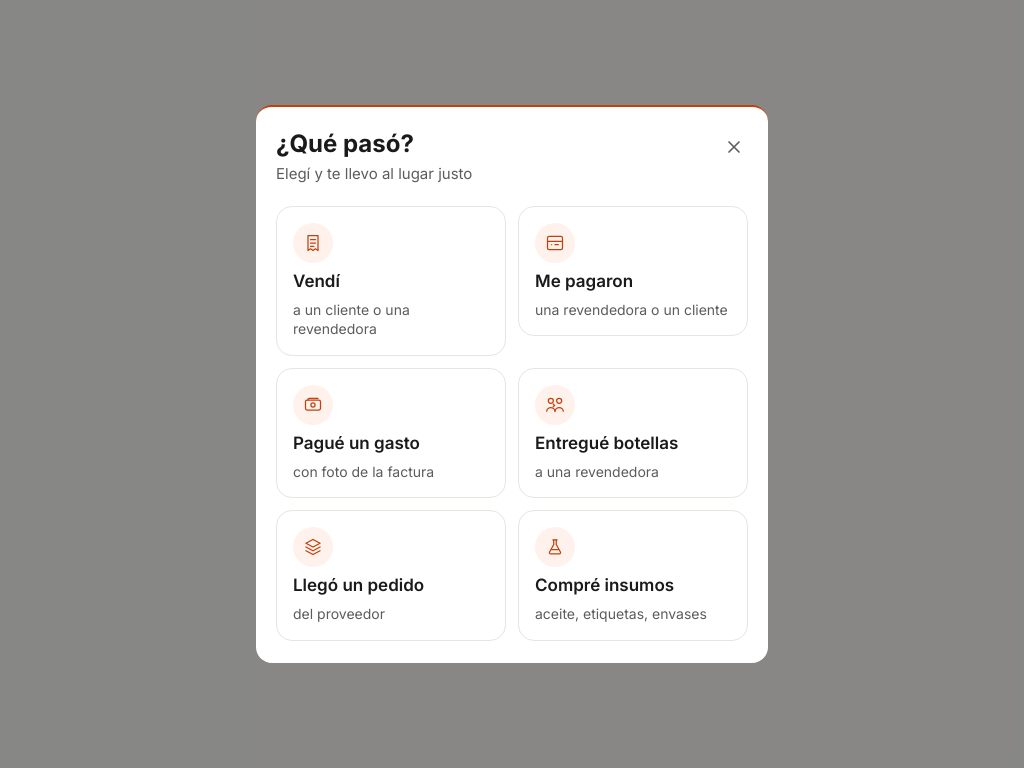
QuePasoSheet — la lista se pide al abrir › mientras carga muestra 3 filas de espera en el paso 2 (y las opciones extra siguen)
Click the button "Vendí a un cliente o una revendedora" at {"x": 391, "y": 281}, box [276, 206, 506, 356]
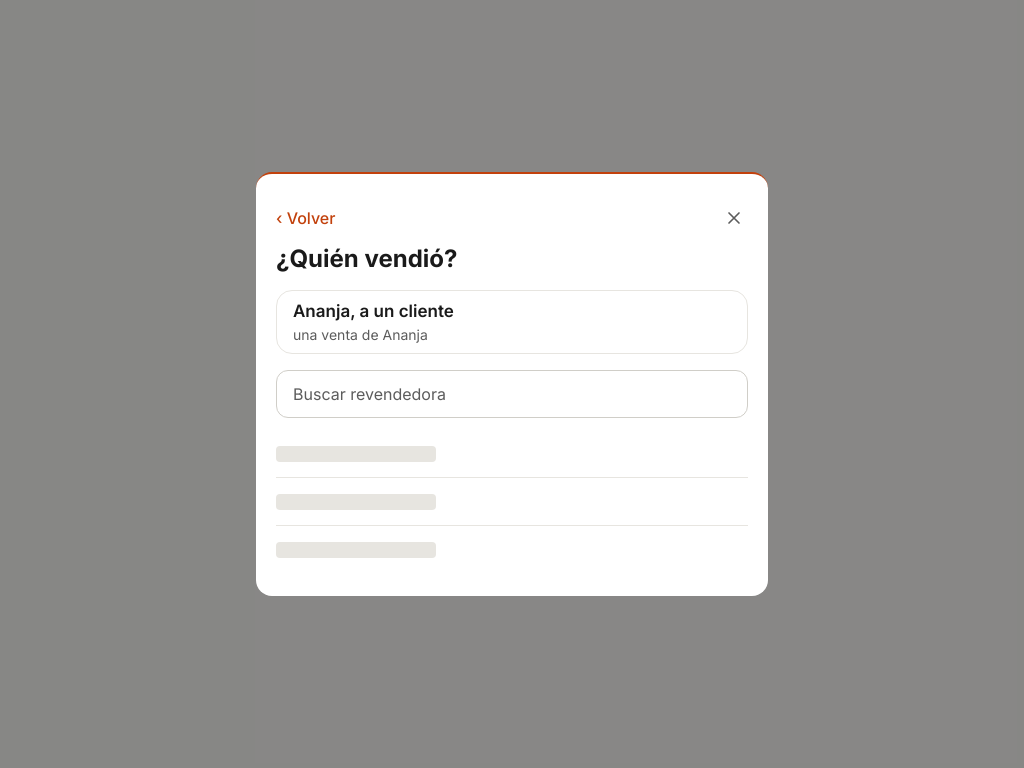
Check: the number of list items is 3, box [276, 430, 748, 478]; [276, 478, 748, 526]; [276, 542, 436, 558]
Check: the link "Ananja, a un cliente una venta de Ananja" is shown, box [276, 290, 748, 354]
